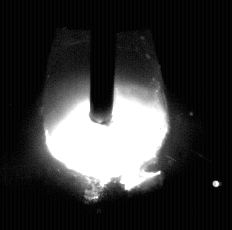arame: (91, 0, 114, 126)
poca: (45, 0, 166, 230)
